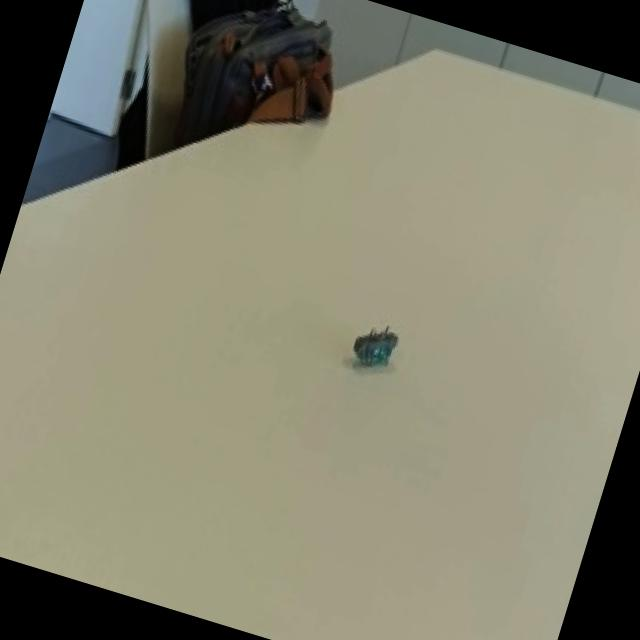5_NanoBug_GrisClaro: (336, 306, 412, 398)
